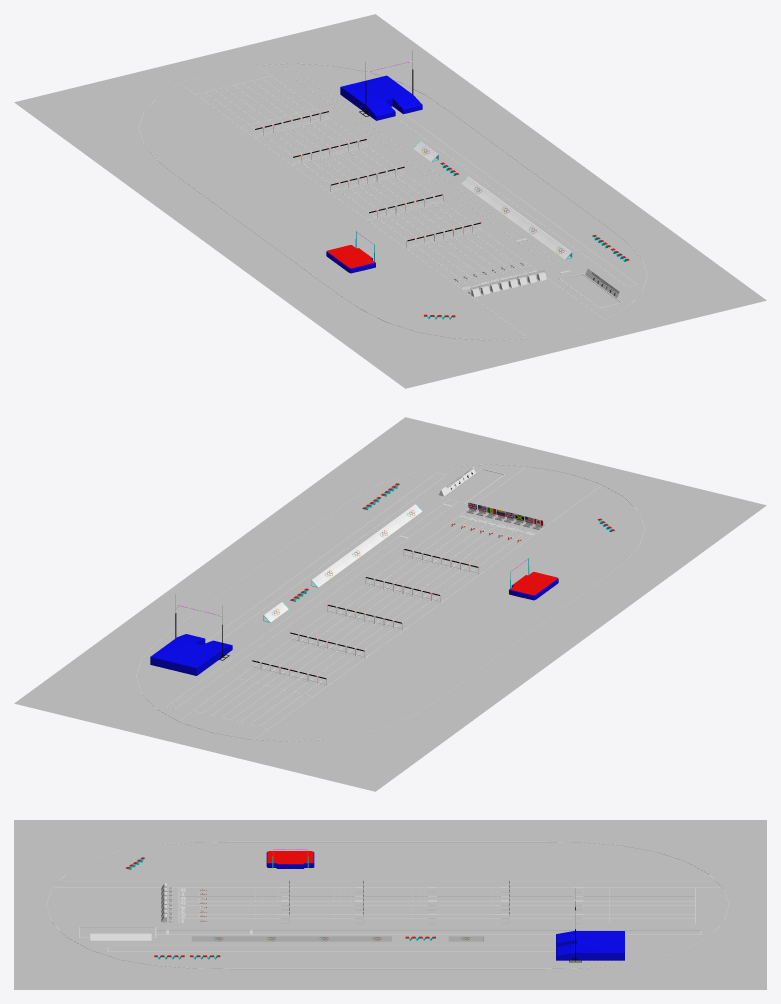
File: Runningtrack01.fbx
3 renders of one model, top to bottom at view 1: azimuth 30°, elevation 25°; view 2: azimuth 150°, elevation 25°; view 3: azimuth 270°, elevation 25°, orthographic. The views are drawn at different scales.
Parts seen in each view (by area): view 1: Asphalt, TrackLines, PoleVault, BannerLong, HighJump, Sand; view 2: Asphalt, TrackLines, PoleVault, BannerLong, HighJump, Sand; view 3: Asphalt, TrackLines, PoleVault, BannerLong, HighJump, Sand, LongJumpMeasure.
Part boxes in pixels (<box>): Asphalt: <box>14,14,766,388</box>; TrackLines: <box>138,63,647,340</box>; PoleVault: <box>340,50,422,120</box>; BannerLong: <box>461,176,572,259</box>; HighJump: <box>326,245,375,273</box>; Sand: <box>561,274,620,307</box>; Asphalt: <box>14,417,766,791</box>; TrackLines: <box>136,464,644,741</box>; PoleVault: <box>150,594,232,675</box>; BannerLong: <box>311,504,422,587</box>; HighJump: <box>509,572,558,600</box>; Sand: <box>444,469,503,503</box>; Asphalt: <box>14,820,766,989</box>; TrackLines: <box>46,841,729,969</box>; PoleVault: <box>556,888,624,962</box>; BannerLong: <box>191,936,391,941</box>; HighJump: <box>266,851,314,868</box>; Sand: <box>79,927,155,937</box>; LongJumpMeasure: <box>90,933,151,940</box>.
Size of the model in its own units: 5092 by 722 by 9547.
